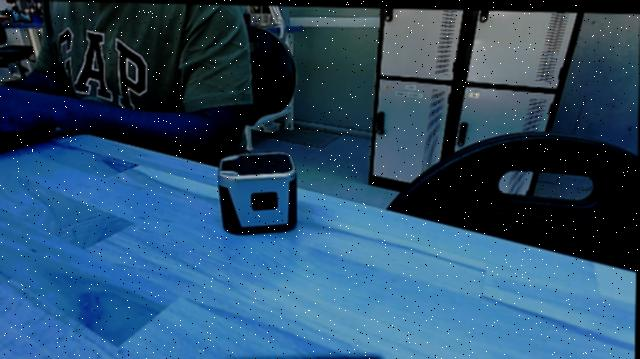adapter: (208, 147, 303, 240)
